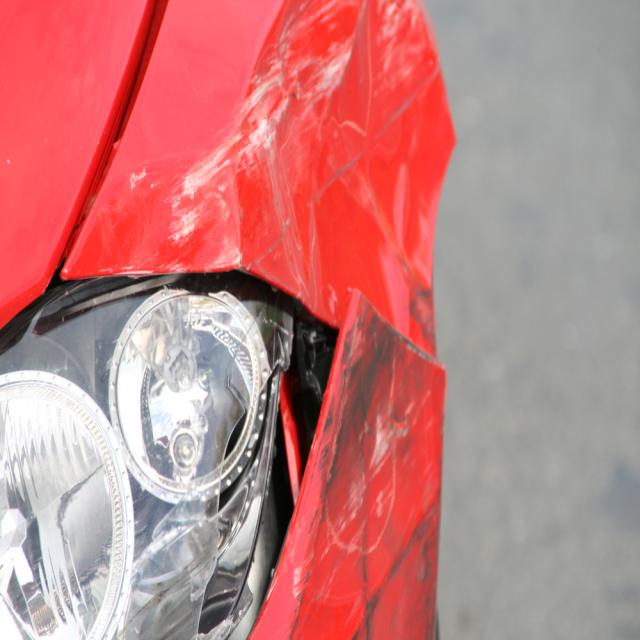Cabossage: (222, 0, 460, 353)
Dechirure: (346, 281, 448, 377)
Phare abime: (169, 258, 350, 640)
Rayure: (129, 1, 433, 356), (291, 249, 475, 640)
